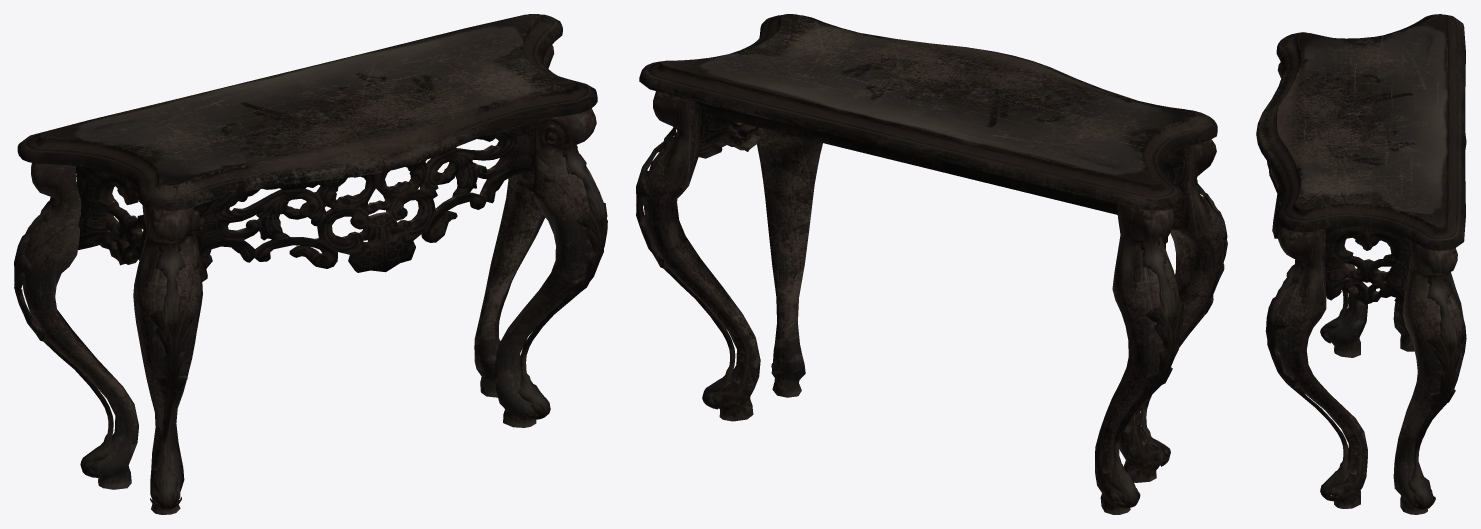
The model's file is classicconsole_01.glb.
The picture shows the model from 3 angles, left to right: view 1: azimuth 30°, elevation 25°; view 2: azimuth 150°, elevation 25°; view 3: azimuth 270°, elevation 25°; orthographic projection. The views are drawn at different scales.
Parts seen in each view (by area): view 1: ClassicConsole_01; view 2: ClassicConsole_01; view 3: ClassicConsole_01.
Part boxes in pixels (box(x1,y1,x2,y2)): ClassicConsole_01: box(14, 14, 607, 514); ClassicConsole_01: box(636, 14, 1227, 514); ClassicConsole_01: box(1256, 14, 1466, 514).
Size of the model in its own units: 1.54 by 0.9491 by 0.5892.
Materials: 1 (1 with a texture image).
